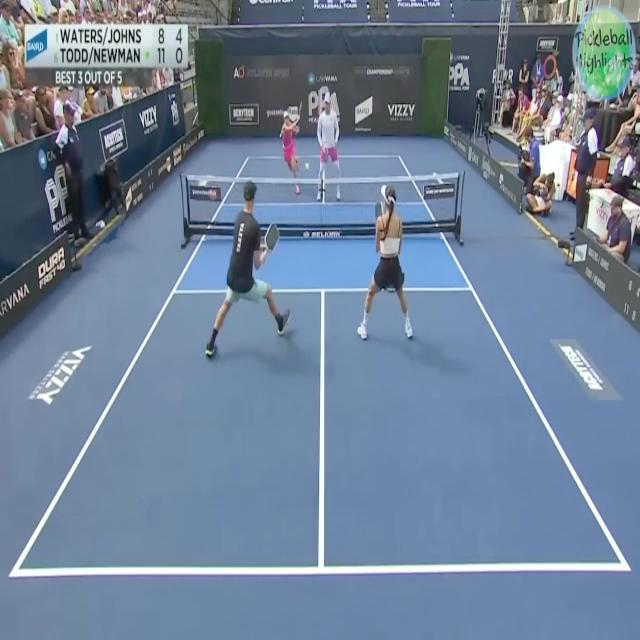Pickleball: (304, 159, 310, 173)
